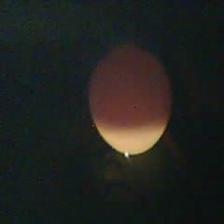fertile: (86, 42, 172, 156)
